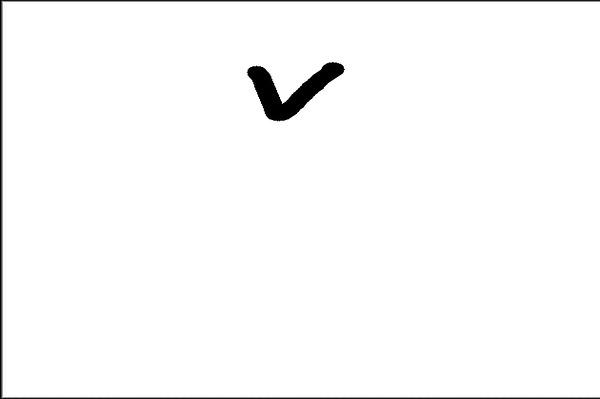V: (240, 50, 350, 136)
